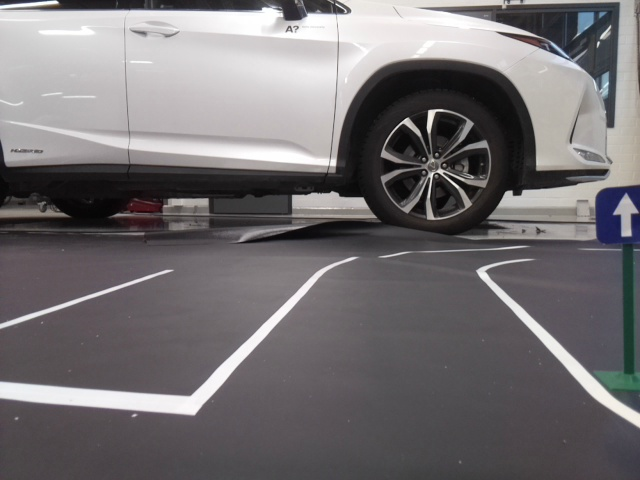OneWay: (598, 189, 639, 240)
